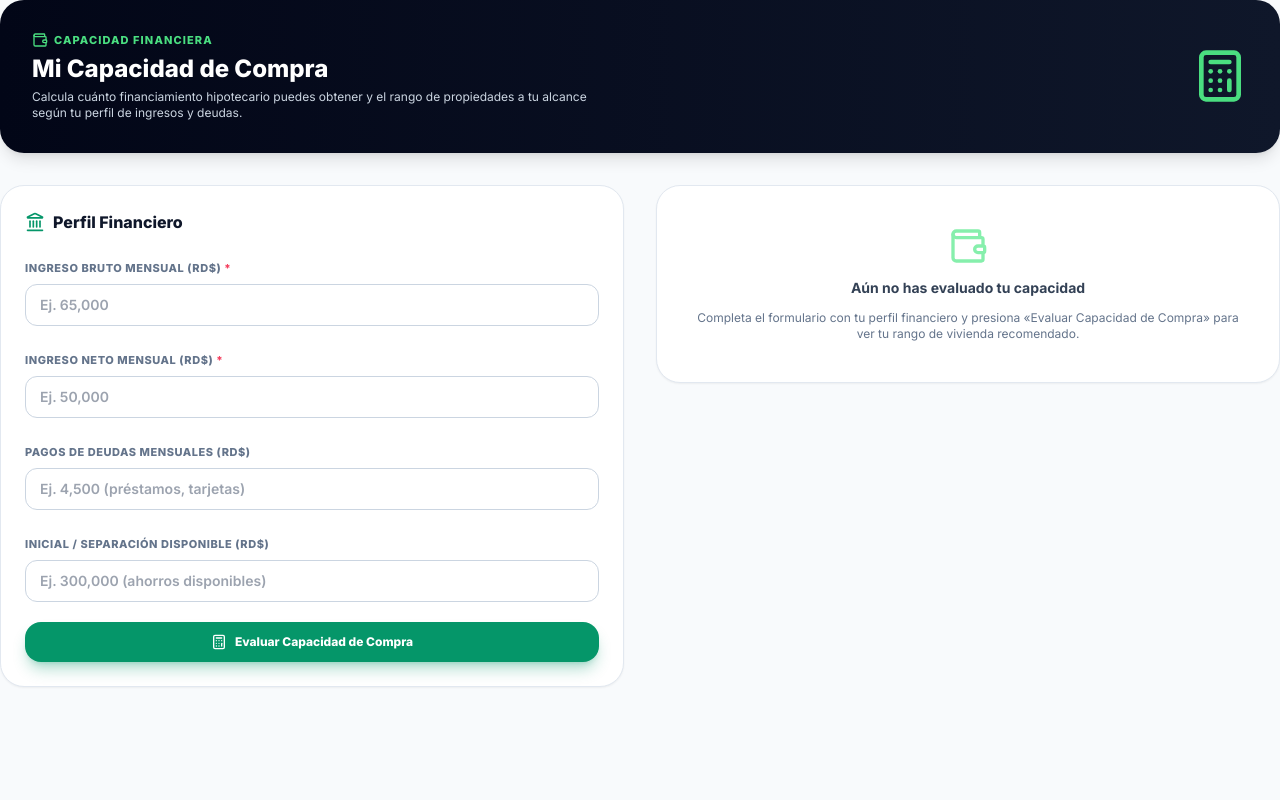
Test: BuyAbilityPage Component › validates that Net Income cannot be greater than Gross Income reactively
Expected: the heading "Mi Capacidad de Compra" is shown, [32, 54, 328, 82]
Gross: 50,000, Net: 80,000
In the field with placeholder "Ej. 65,000": point(312, 304) [25, 284, 599, 326], type "50000"
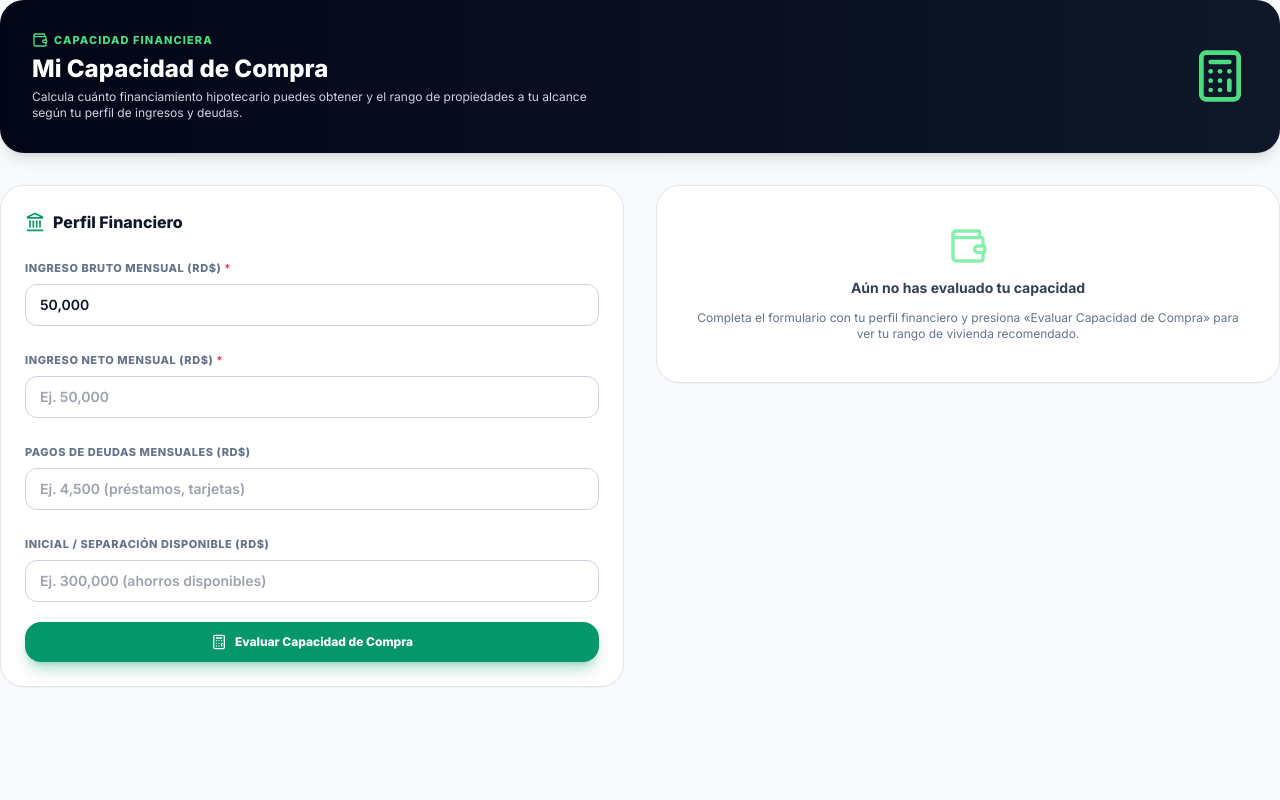
In the field with placeholder "Ej. 50,000": point(312, 396) [25, 376, 599, 418], type "80000"
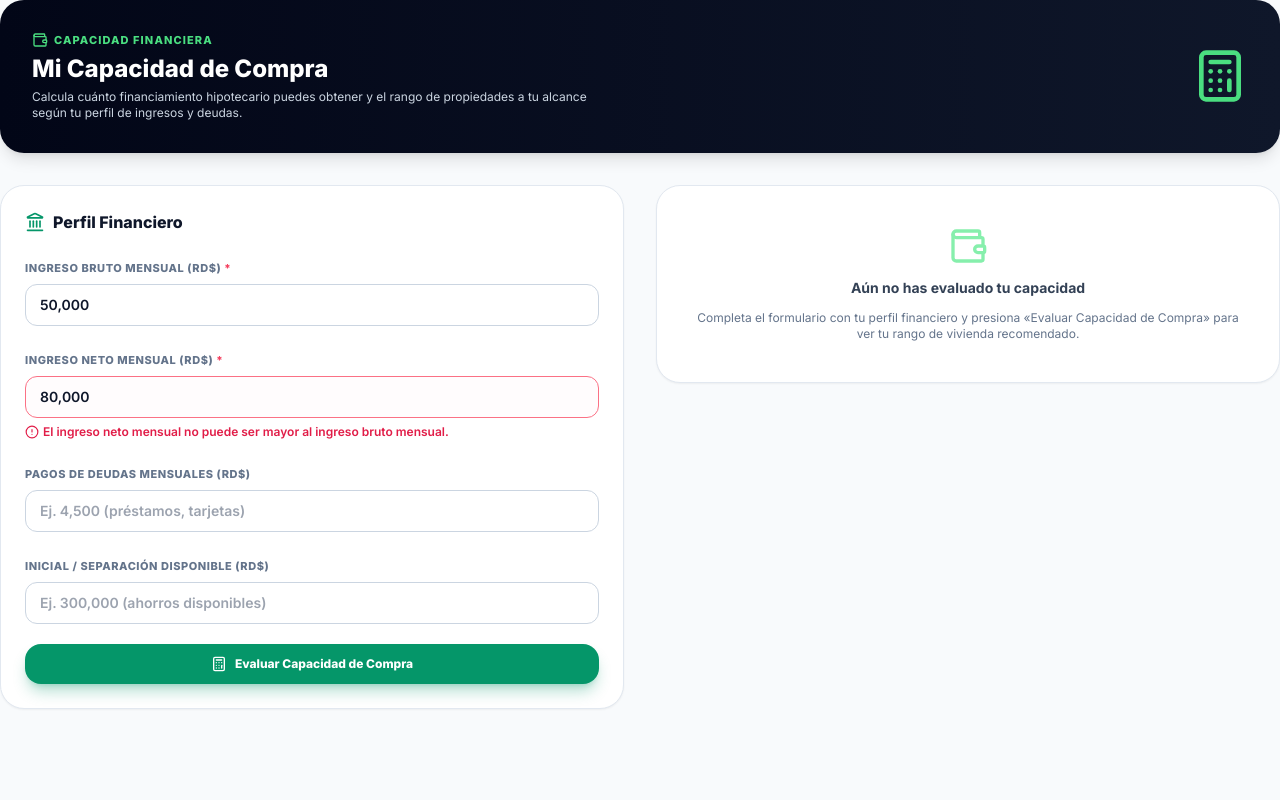
Now the text "El ingreso neto mensual no puede ser mayor al ingreso bruto mensual." is shown, box [25, 424, 449, 438]
Replace the text in the field with placeholder "Ej. 50,000" below "Ingreso Neto Mensual (RD$)" with "40000": point(312, 396) [25, 376, 599, 418]
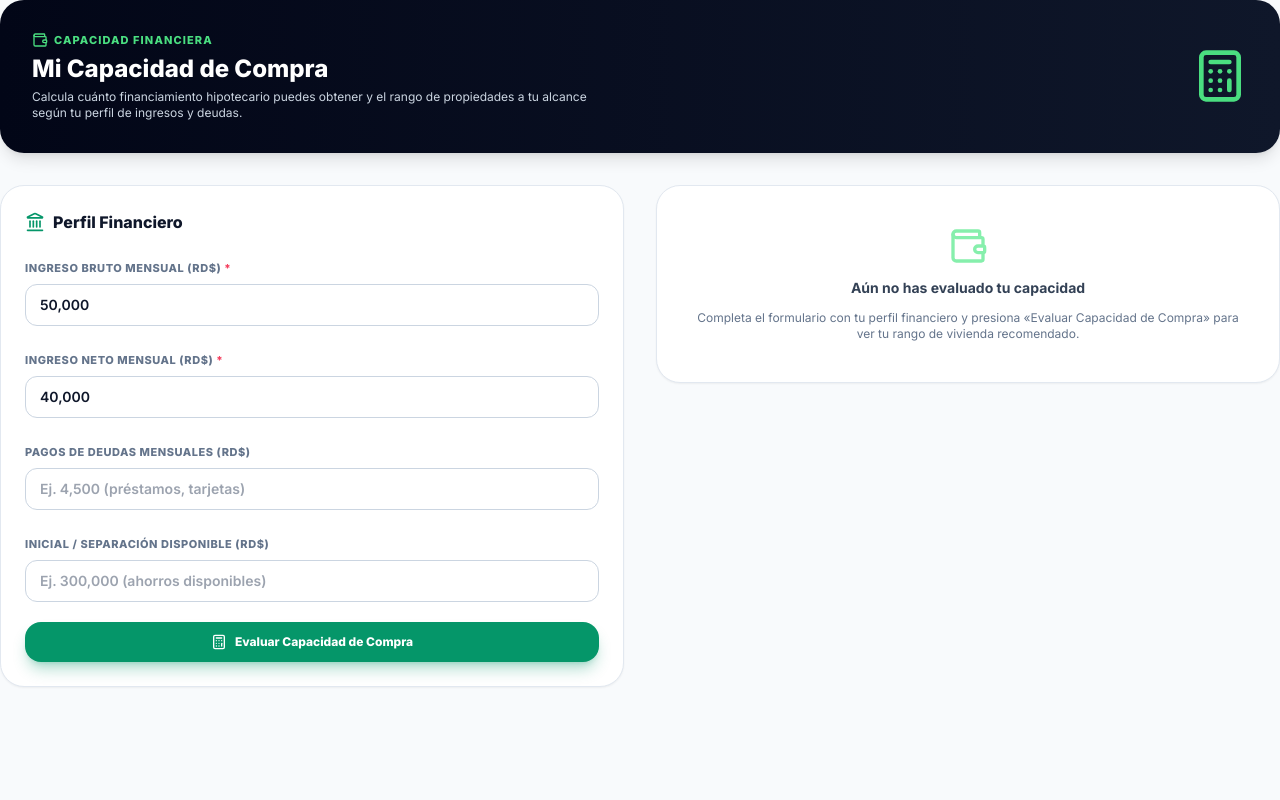
Now the text "El ingreso neto mensual no puede ser mayor al ingreso bruto mensual." is gone
